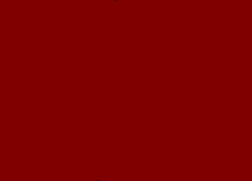Sky: (1, 1, 251, 180)
